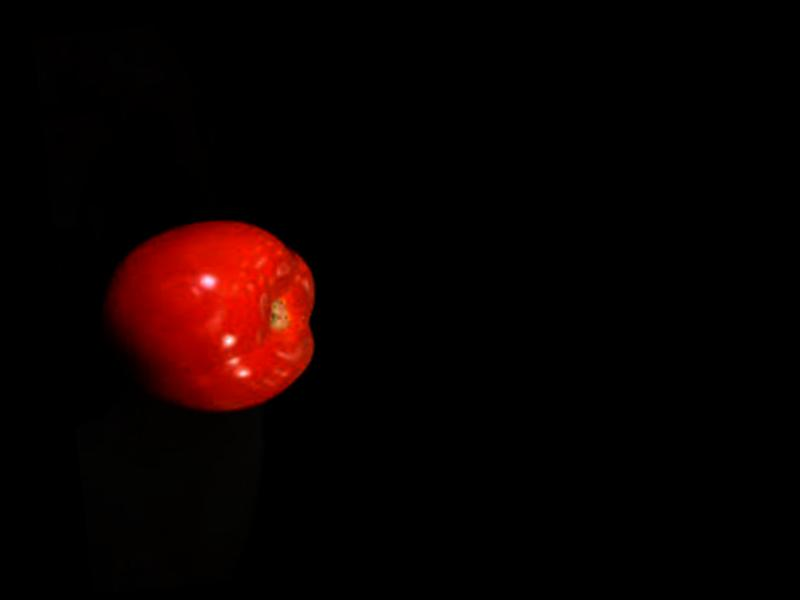Tomato: (91, 206, 331, 425)
